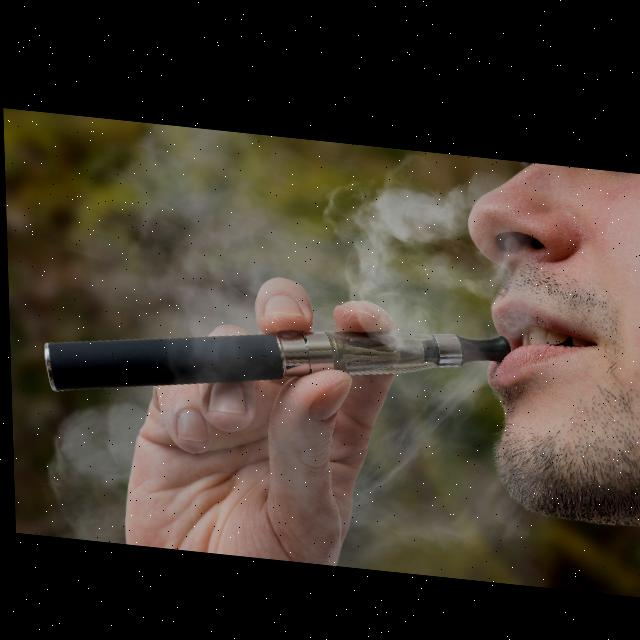vape: (39, 286, 513, 428)
